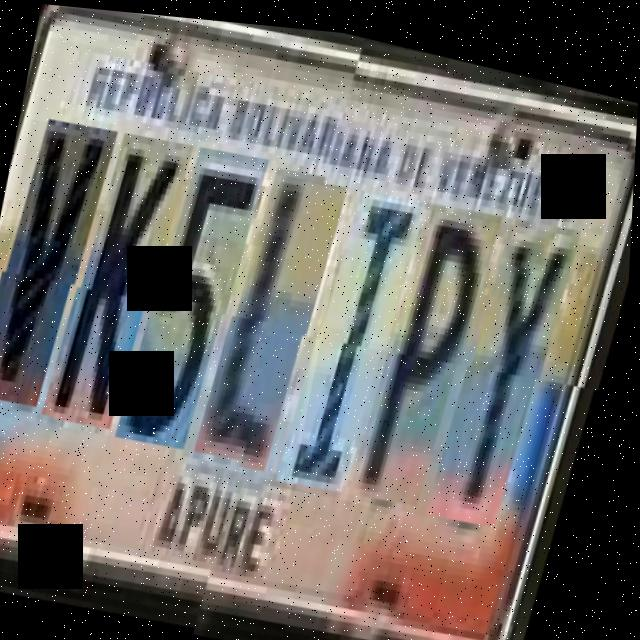5: (129, 142, 272, 467)
I: (291, 178, 430, 502)
K: (54, 129, 195, 448)
L: (206, 162, 352, 482)
P: (364, 191, 506, 515)
V: (0, 116, 120, 426)
Y: (441, 203, 585, 536)
